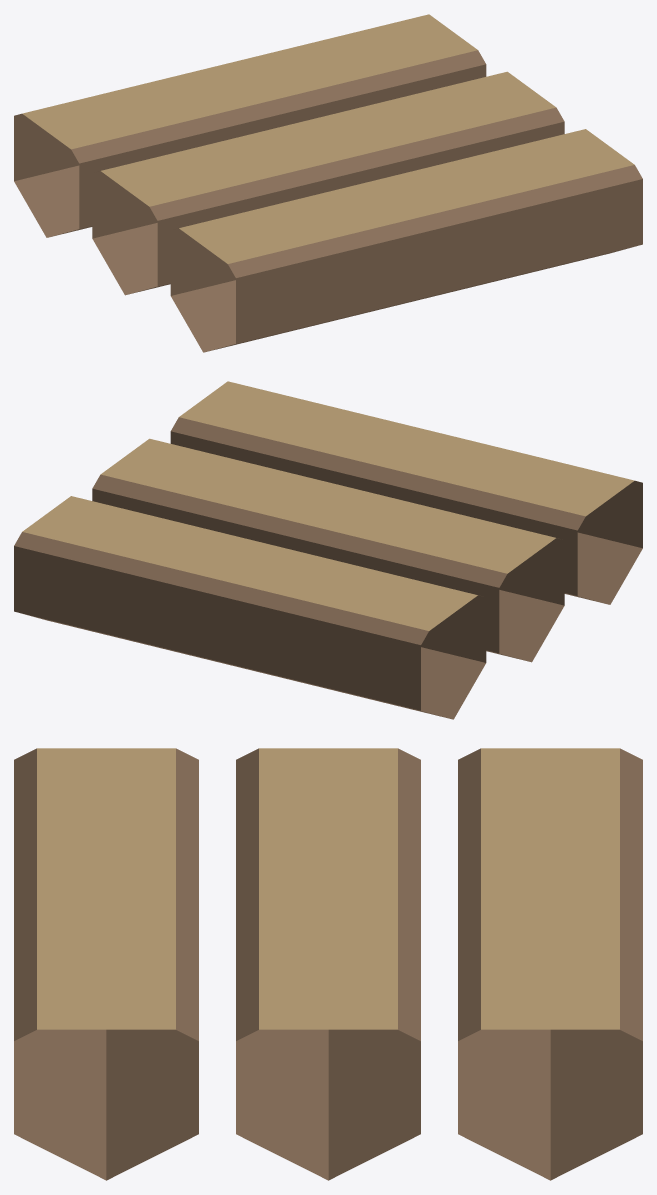
The model's file is Hilly_Prop_Bridge_Log_Middle.obj.
3 views of the same model, one above another, from view 1: azimuth 30°, elevation 25°; view 2: azimuth 150°, elevation 25°; view 3: azimuth 270°, elevation 25° (orthographic). The views are drawn at different scales.
Parts seen in each view (by area): view 1: object3, object1, object2; view 2: object2, object1, object3; view 3: object1, object2, object3.
Part boxes in pixels (box(x1,y1,x2,y2)): object3: box(170, 129, 642, 352); object1: box(92, 71, 564, 295); object2: box(14, 14, 486, 237); object2: box(14, 496, 486, 719); object1: box(92, 438, 564, 662); object3: box(170, 381, 642, 604); object1: box(236, 748, 420, 1180); object2: box(458, 748, 642, 1180); object3: box(14, 748, 198, 1180).
Bounding box in the file's own units: 1 × 0.25 × 0.9444.
